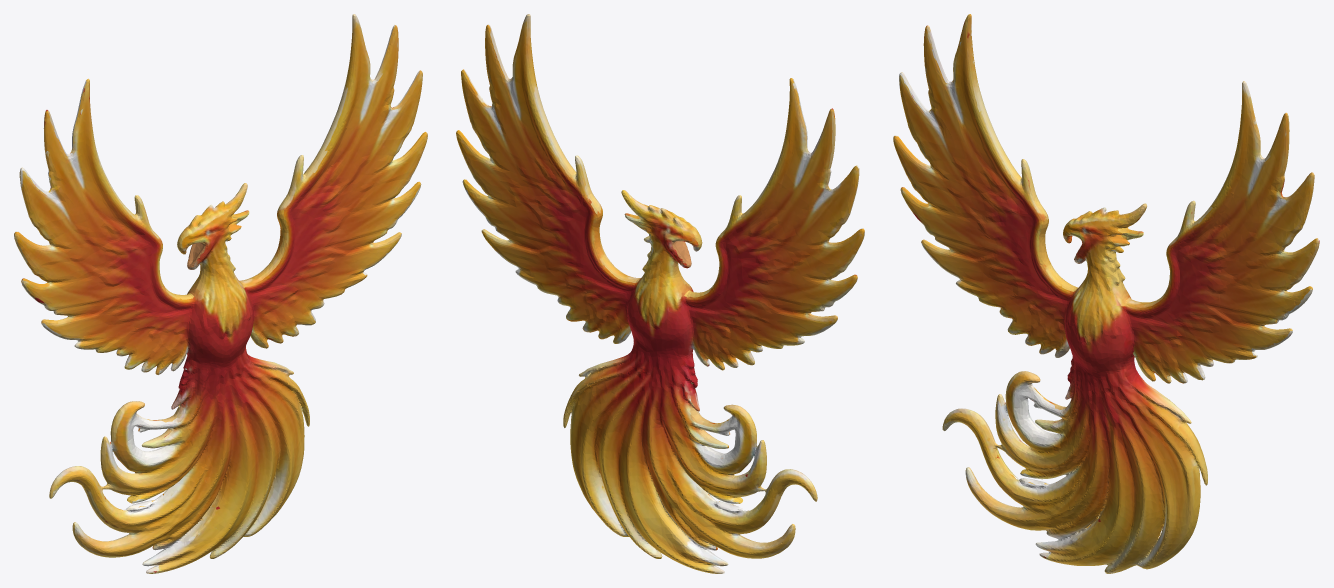
Rendered from world_boss_phoenix_guardian.glb.
3 renders of one model, left to right at view 1: azimuth 30°, elevation 25°; view 2: azimuth 150°, elevation 25°; view 3: azimuth 330°, elevation 25°, orthographic. The views are drawn at different scales.
Parts seen in each view (by area): view 1: tmpb64mui8_.ply; view 2: tmpb64mui8_.ply; view 3: tmpb64mui8_.ply.
Boxes of the visible parts, left/top/right/bottom form: tmpb64mui8_.ply: left=14, top=14, right=427, bottom=573; tmpb64mui8_.ply: left=456, top=14, right=864, bottom=573; tmpb64mui8_.ply: left=893, top=14, right=1319, bottom=573.
Bounding box in the file's own units: 1.67 × 1.99 × 0.2007.
1 material, 1 textured.
